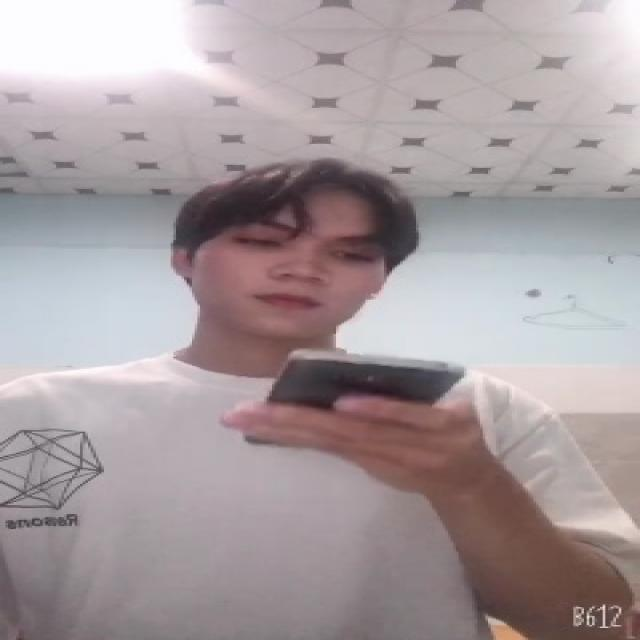Phone: (254, 348, 469, 414)
